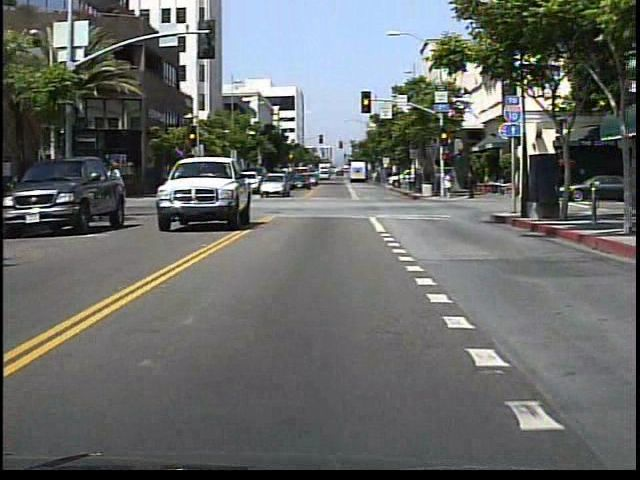person: (463, 170, 478, 203), (181, 171, 194, 198), (444, 170, 454, 198)
